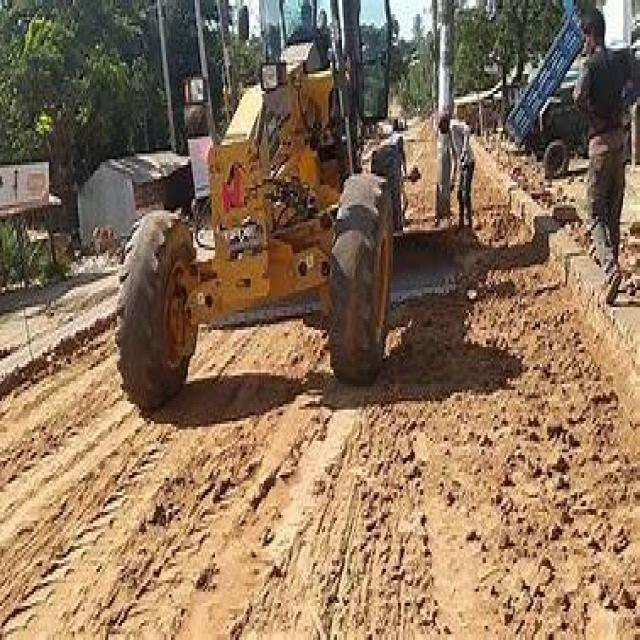buldozerpayloadergrader: (108, 0, 466, 401)
